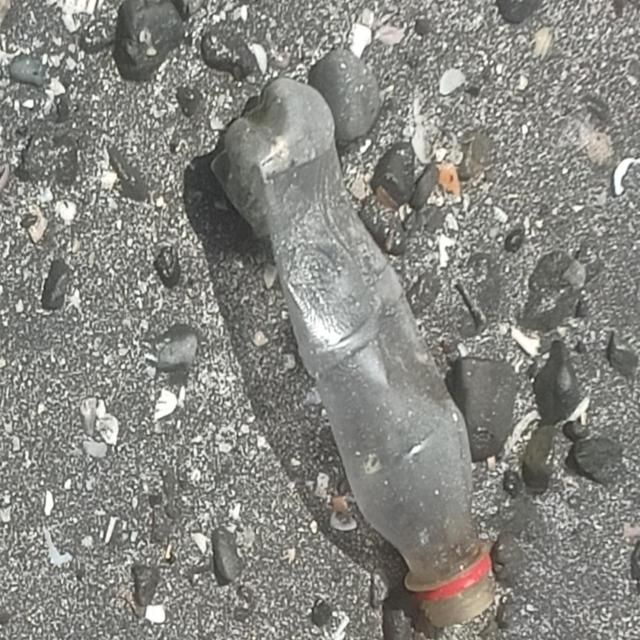plastic_waste: (211, 77, 498, 628)
